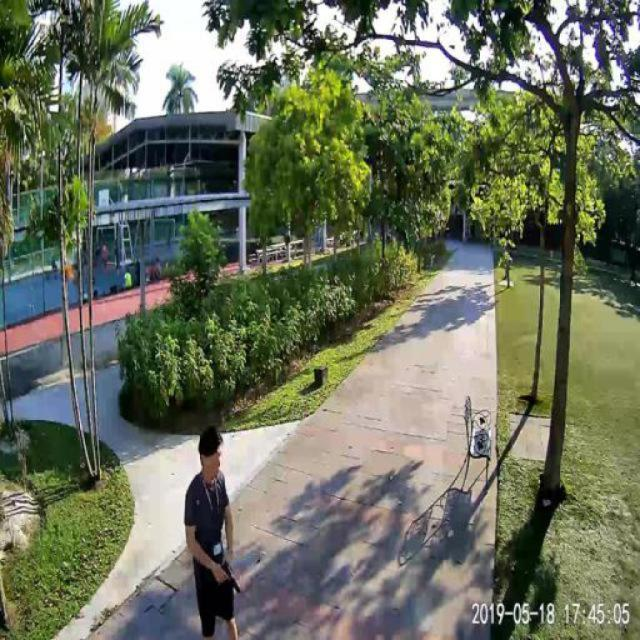pistol: (219, 558, 239, 592)
